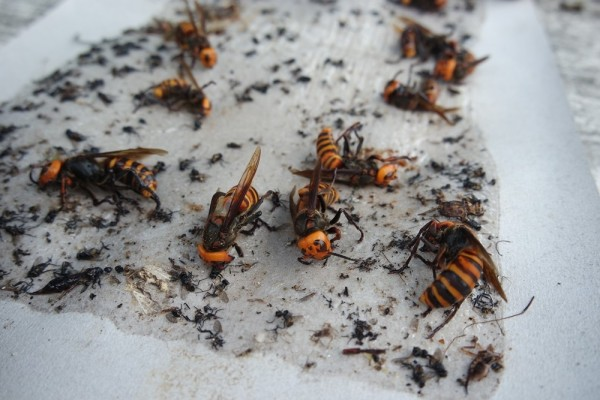asian_giant_hornet: (191, 160, 294, 269), (406, 214, 510, 318), (284, 160, 362, 264), (26, 147, 162, 204), (303, 123, 406, 187), (139, 56, 217, 125), (371, 63, 462, 119), (157, 7, 231, 68), (392, 10, 455, 58), (433, 38, 483, 83)
